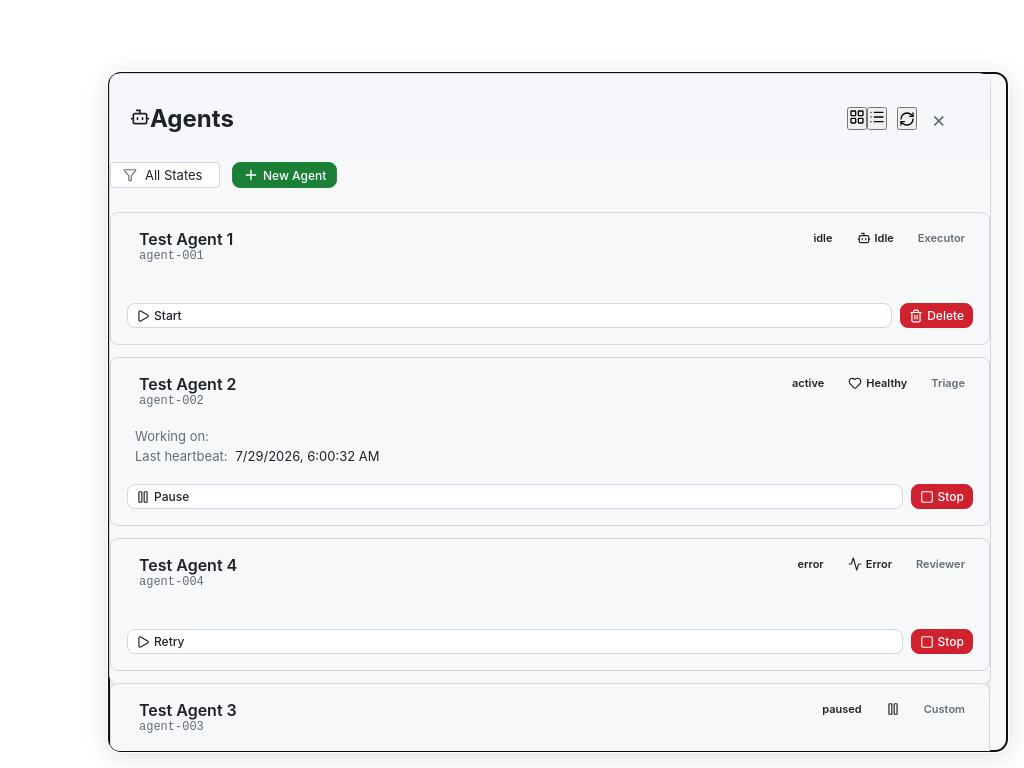
Test case: AgentListModal › agent list display › marks active cards with data-state in list and board views
Click the button titled "Board view": click(857, 118) [847,107,867,130]
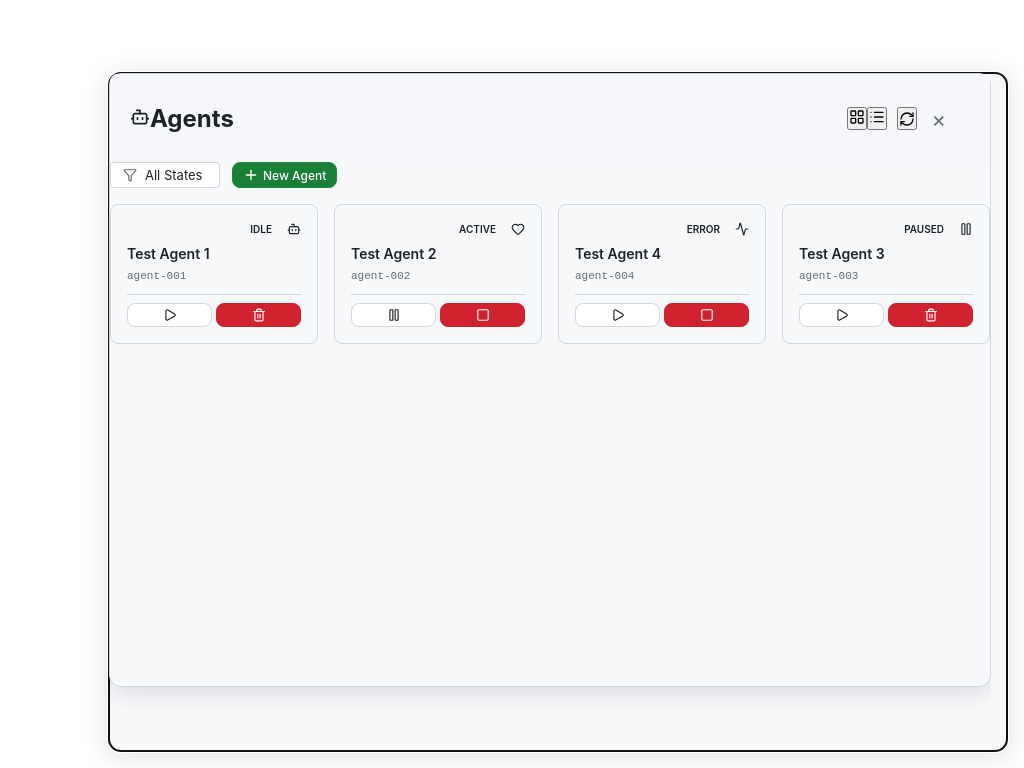
Result: the element with class "agent-board" is shown at [110,204,990,344]
